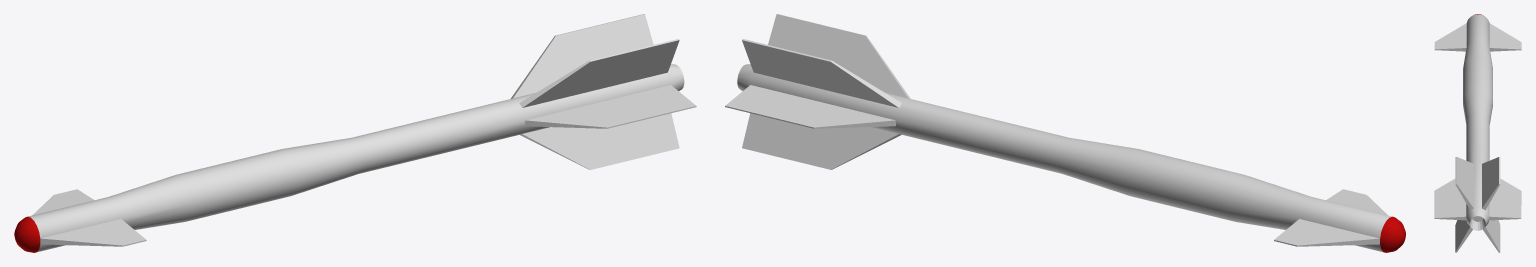
Rendered from Rocket.FBX.
3 views of the same model, side by side, from view 1: azimuth 30°, elevation 25°; view 2: azimuth 150°, elevation 25°; view 3: azimuth 270°, elevation 25° (orthographic). The views are drawn at different scales.
Parts seen in each view (by area): view 1: rocket01; view 2: rocket01; view 3: rocket01.
Part boxes in pixels (x1,y1,x2,y2): rocket01: (14, 14, 696, 252); rocket01: (725, 14, 1405, 252); rocket01: (1434, 14, 1521, 252).
Bounding box in the file's own units: 87.95 × 16.02 × 13.92.
